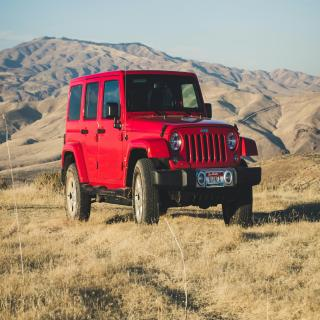Normal_vehicle: (61, 67, 261, 233)
